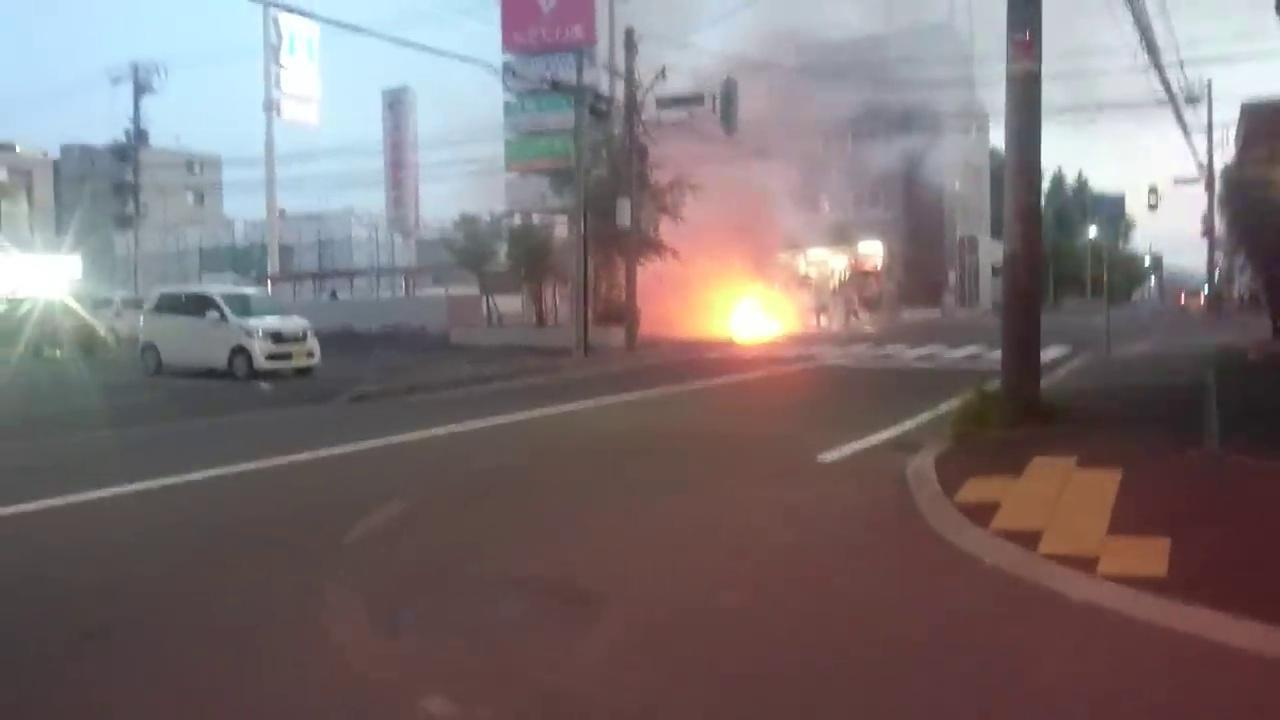Fire: (725, 293, 795, 345)
